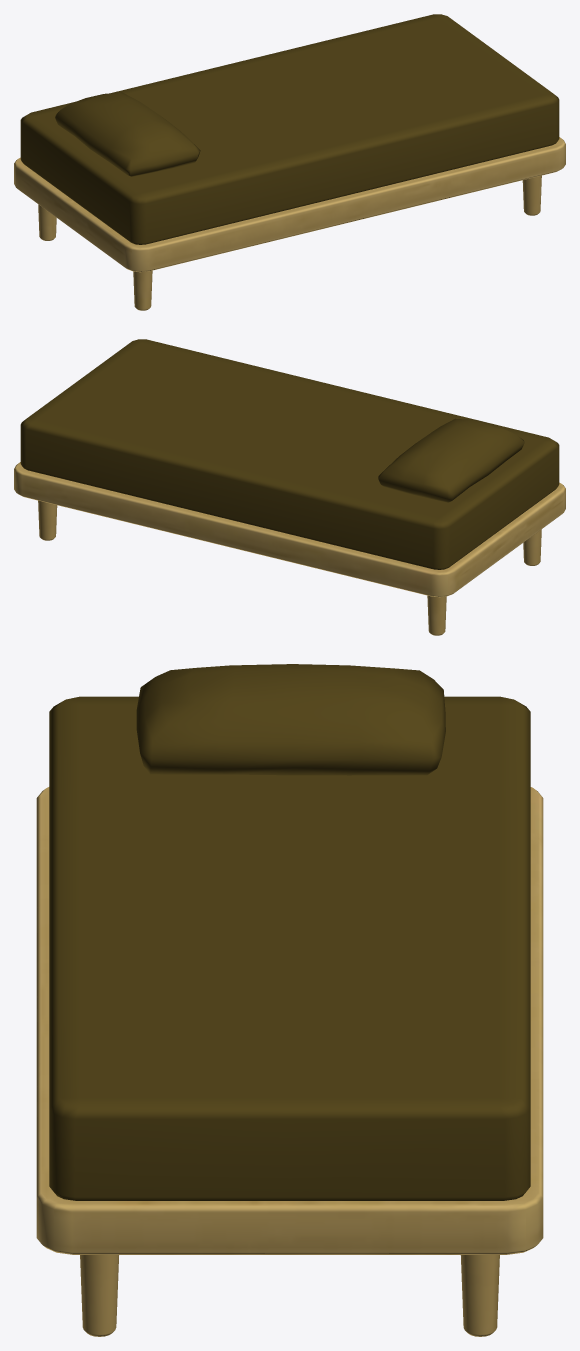
The picture shows the model from 3 angles, top to bottom: view 1: azimuth 30°, elevation 25°; view 2: azimuth 150°, elevation 25°; view 3: azimuth 270°, elevation 25°; orthographic projection. The views are drawn at different scales.
Bounding box in the file's own units: 19.16 × 6.4 × 9.59.
2 materials, 2 textured.
